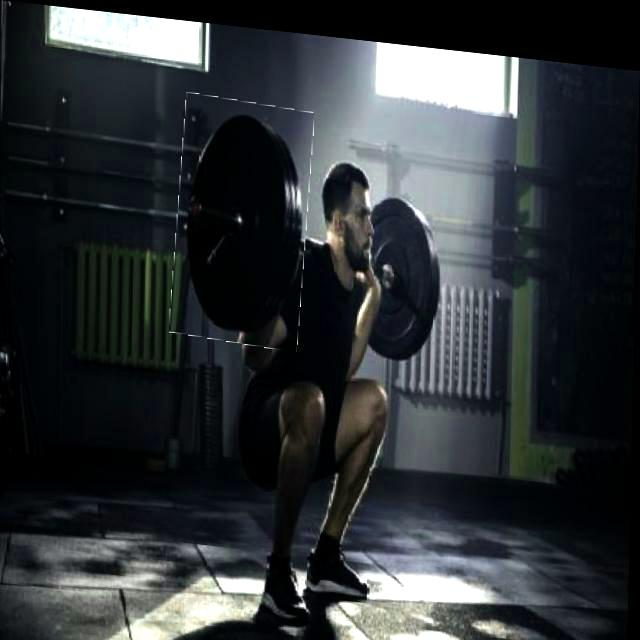barbell: (175, 88, 312, 345)
